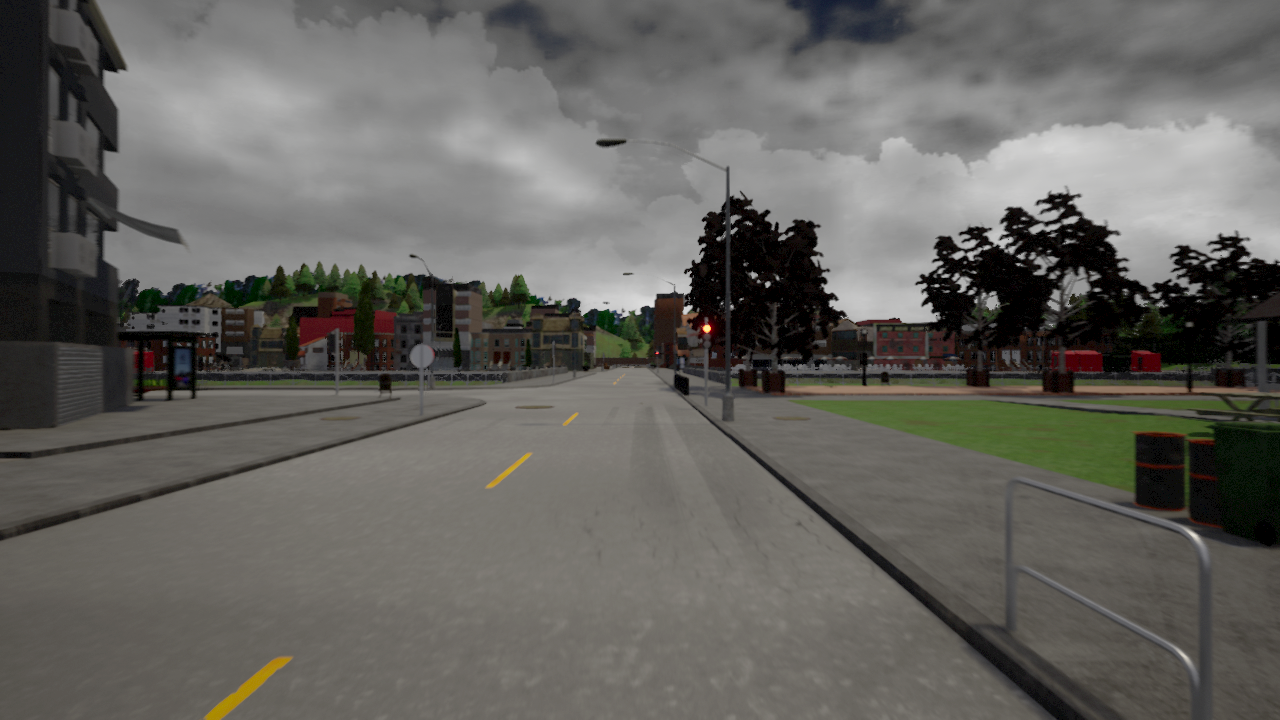red: (702, 322, 713, 351)
